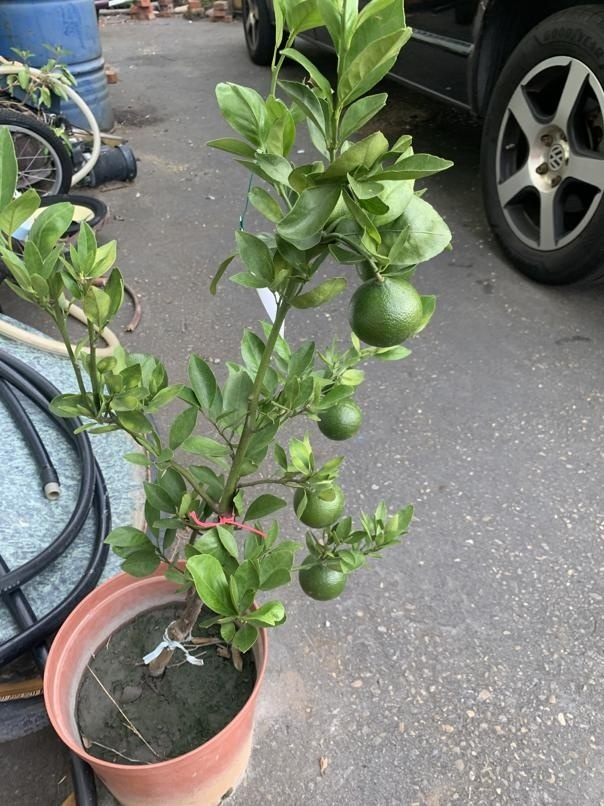Tangerine: (346, 274, 425, 348), (293, 480, 343, 527), (314, 399, 365, 439)
